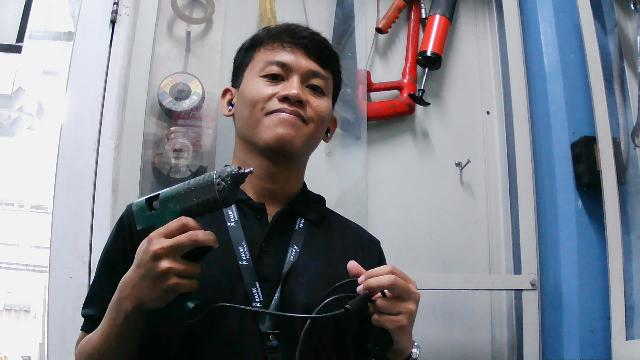gun_lem: (115, 161, 266, 316)
